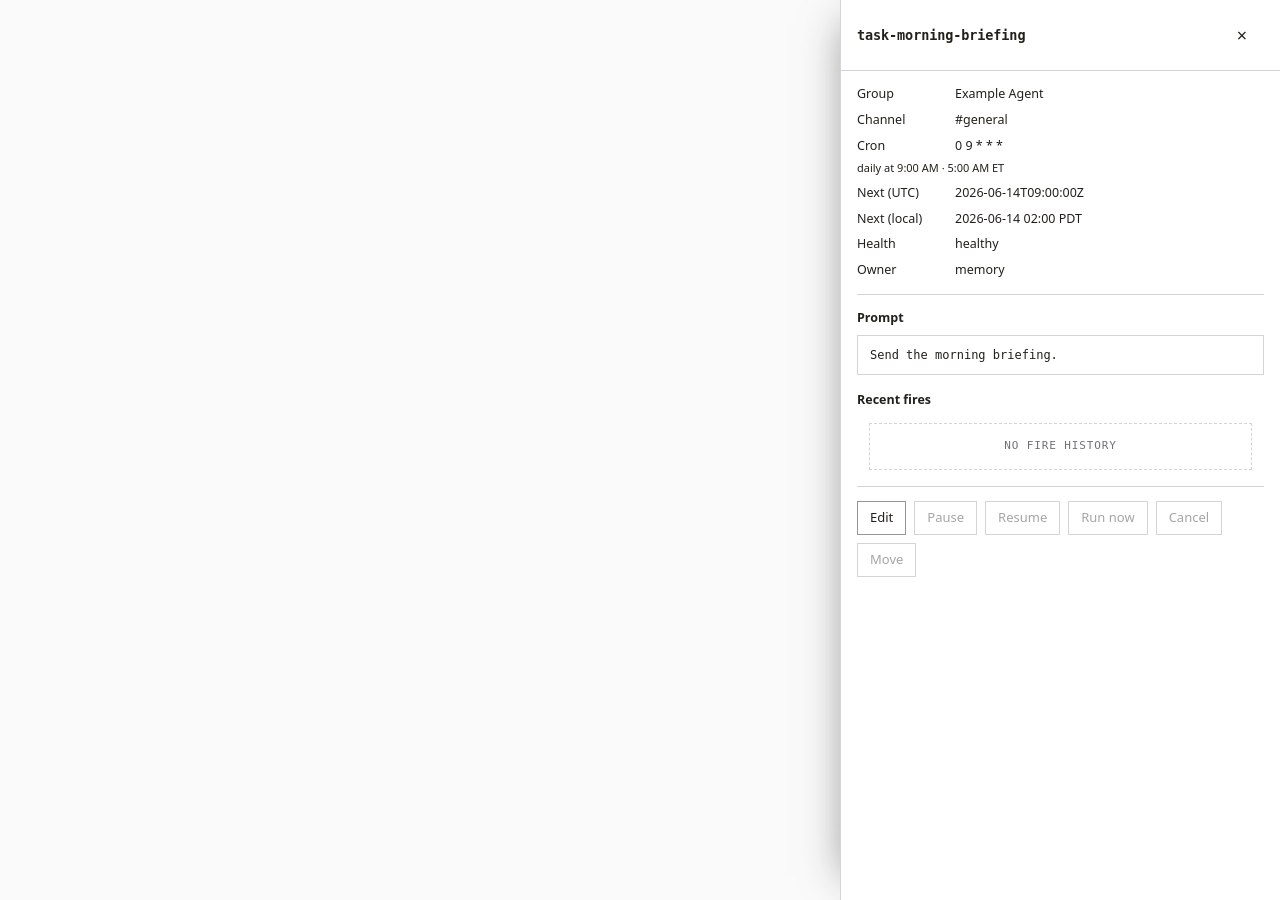
ScheduledDrawer › test_module_edit_warns: module-owned row edit shows the reseed-overwrite warning naming the owner
Check: the dialog with test id "sched-drawer" is shown, box left=840, top=0, right=1279, bottom=899
Step 1. Click the button "Edit" → {"x": 882, "y": 518}, box left=857, top=501, right=906, bottom=535
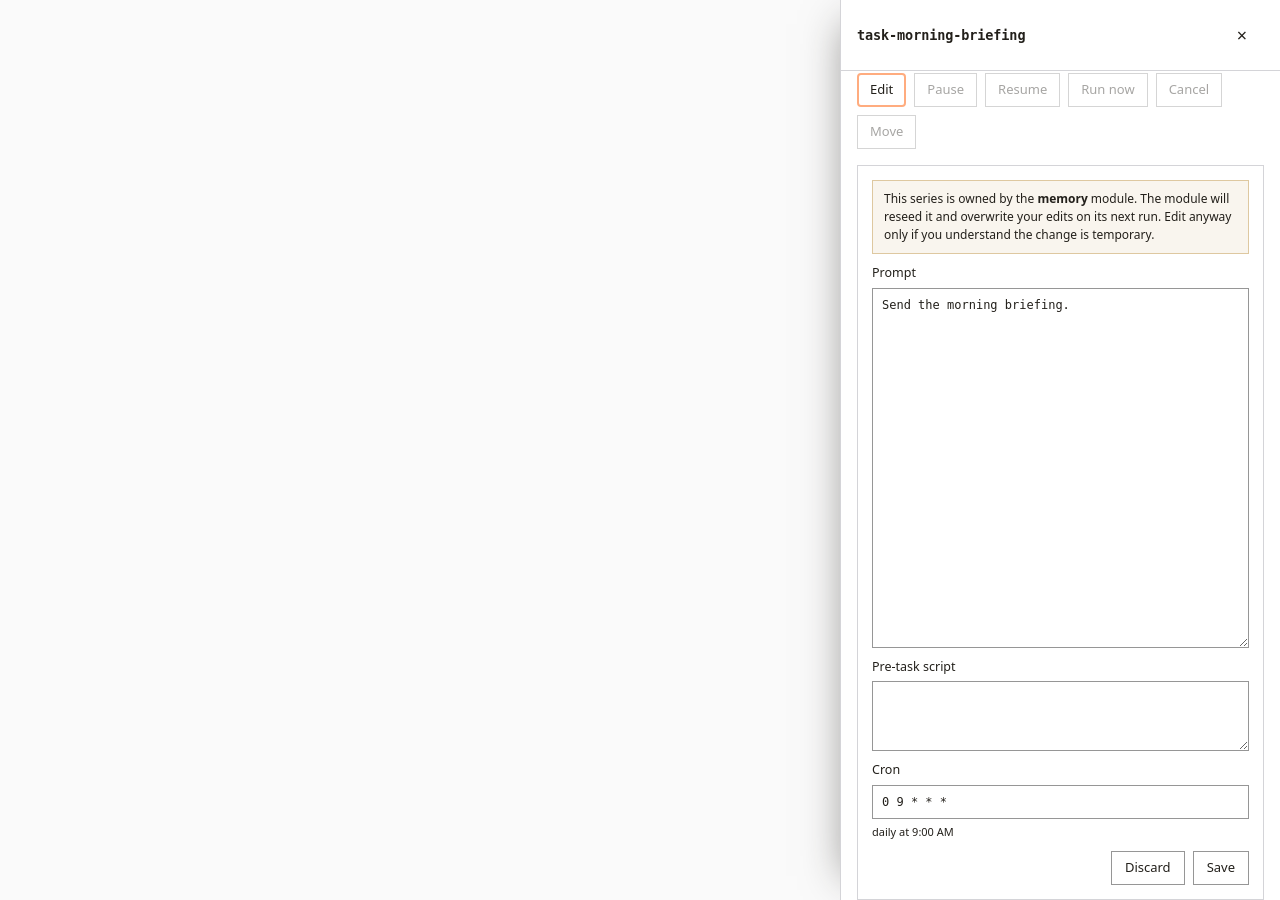
Check: the message with test id "reseed-warning" shows "memory", box left=1037, top=190, right=1088, bottom=207
